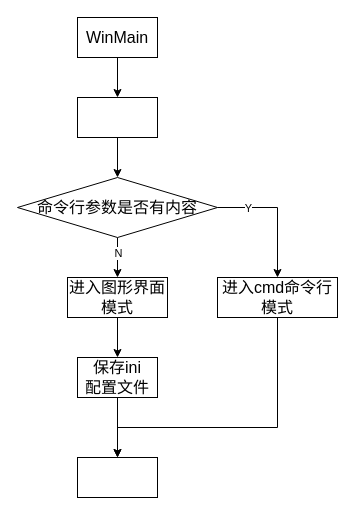
Image size: 355x515. Some labels were removed from this diagram. The shapes that lost their labels are listed below. From the top down, each one's centre as x and y in pixels, then its label:
At (117,117): "读取ini 配置文件".
At (117,477): "结束".
